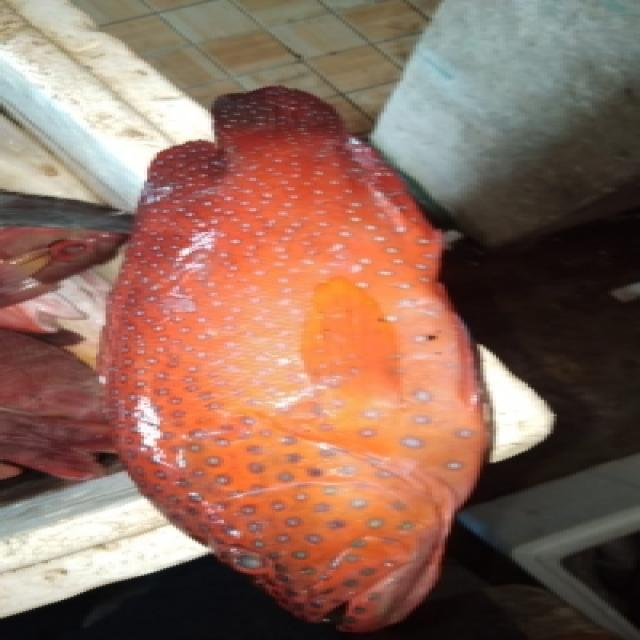Plectropomus-leopardus: (89, 59, 491, 633)
